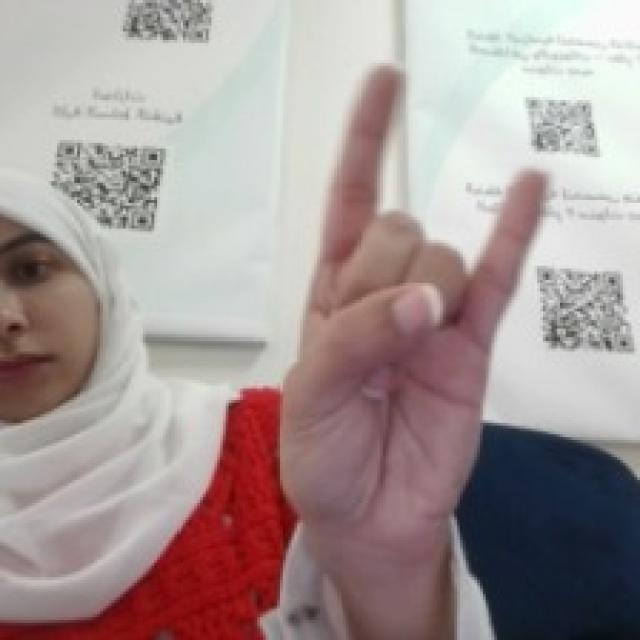No: (283, 46, 554, 511)
